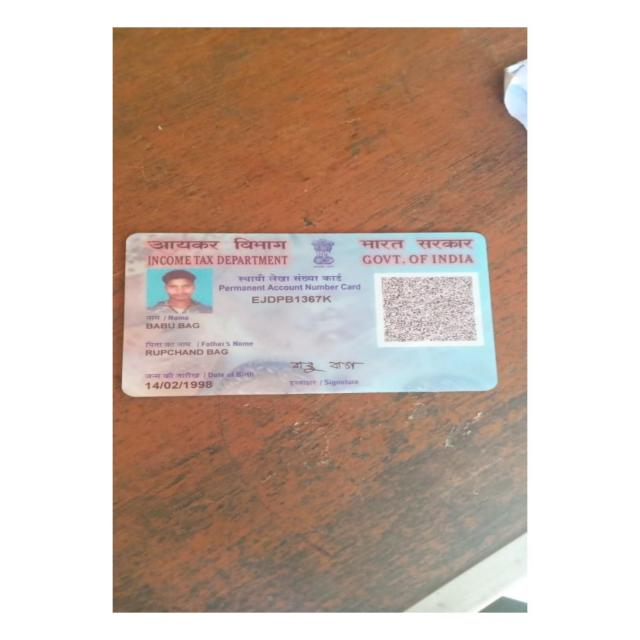pan_card: (125, 233, 496, 398)
